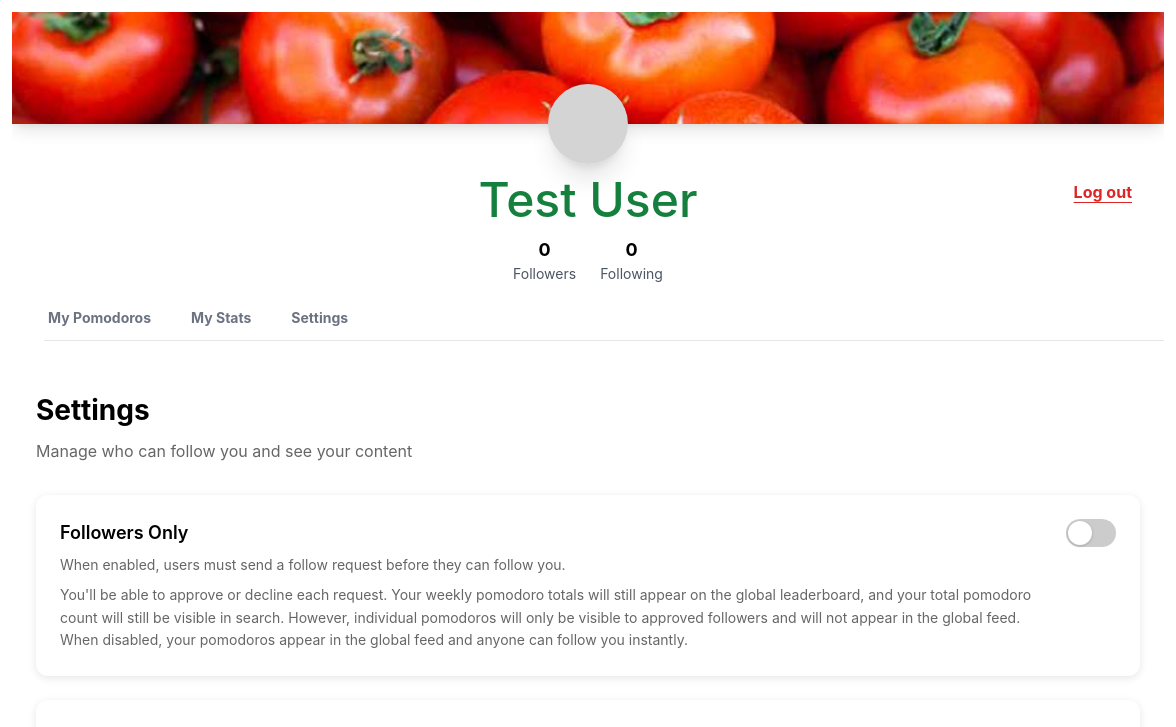
Scenario: PrivacySettings › should show success message after updating
Check: the heading "Settings" is shown, box [36, 393, 150, 427]
Click the 4th button at (1091, 533), box [1066, 519, 1116, 547]
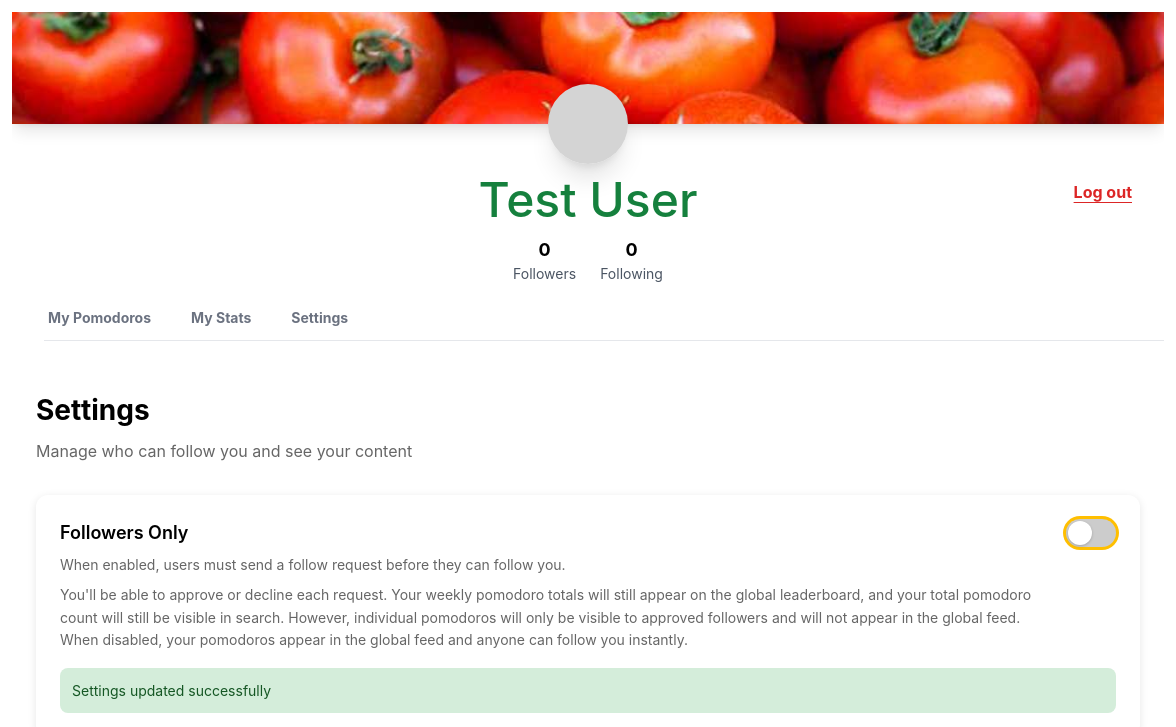
Check: the text "Settings updated successfully" is shown, box [60, 668, 1116, 713]
